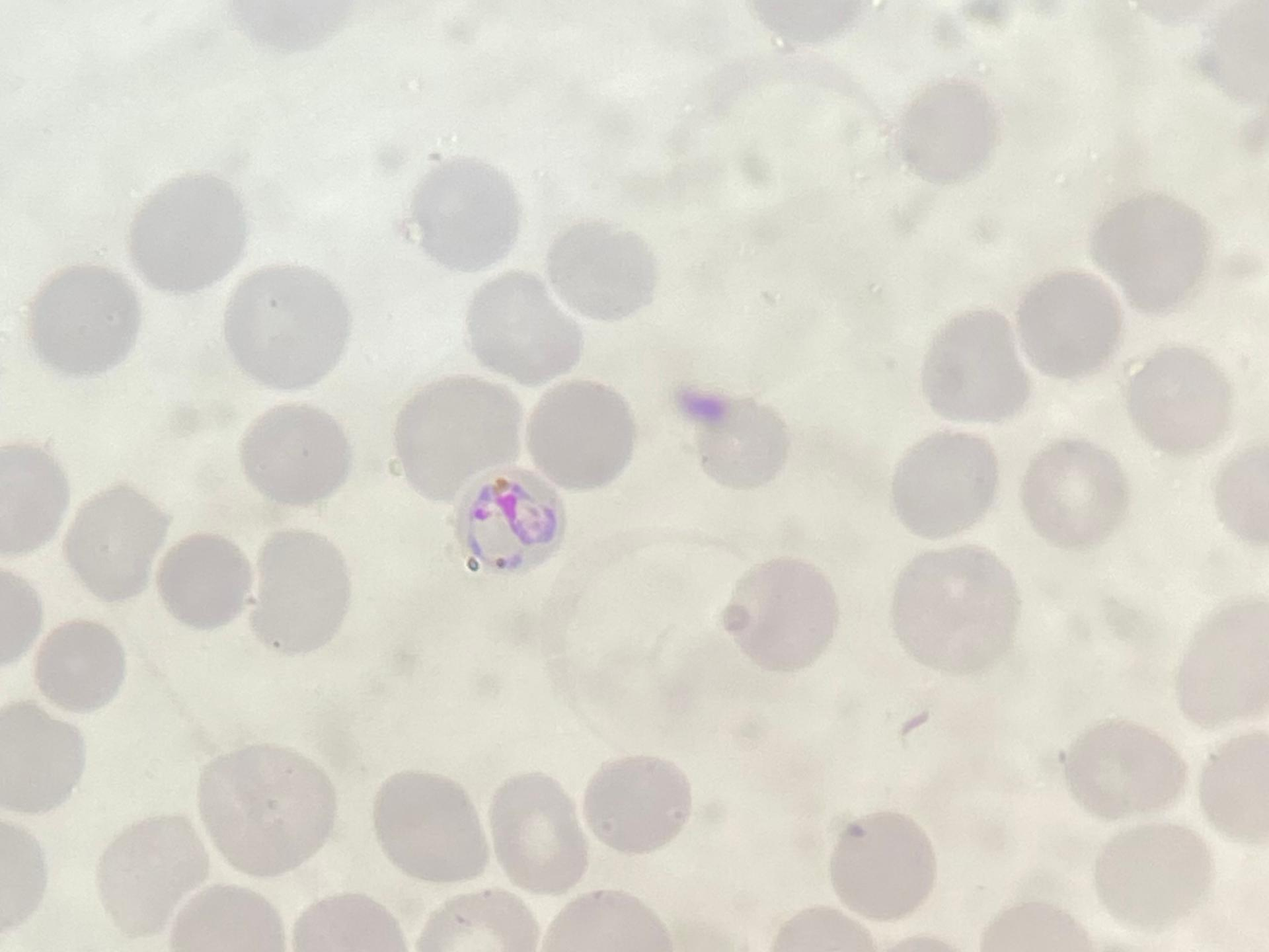Infected: (449, 470, 567, 573)
Uninfected: (196, 744, 334, 878), (892, 545, 1020, 672), (223, 264, 351, 387), (391, 376, 519, 499), (1090, 191, 1211, 309), (371, 769, 492, 887), (132, 172, 247, 291), (724, 554, 841, 670), (61, 483, 173, 604), (25, 262, 139, 378), (247, 529, 352, 654), (408, 159, 523, 273), (465, 271, 580, 384), (97, 816, 207, 934), (1060, 717, 1182, 821), (919, 309, 1030, 422), (1091, 822, 1210, 926), (525, 377, 635, 489), (237, 403, 354, 508), (486, 773, 588, 891), (1176, 598, 1269, 725), (1123, 344, 1231, 452), (828, 813, 936, 921), (890, 430, 999, 537), (1016, 269, 1123, 377), (1020, 439, 1126, 545), (894, 78, 1001, 183), (680, 387, 790, 489), (546, 221, 656, 321), (584, 756, 690, 857), (1, 697, 87, 812), (154, 530, 252, 629), (31, 617, 126, 713)
